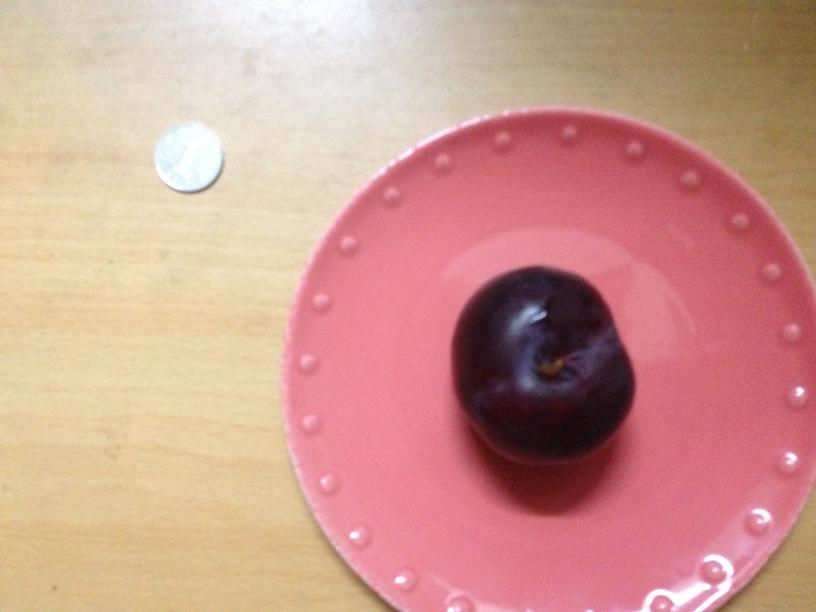coin: (151, 123, 225, 191)
plum: (451, 267, 639, 464)
